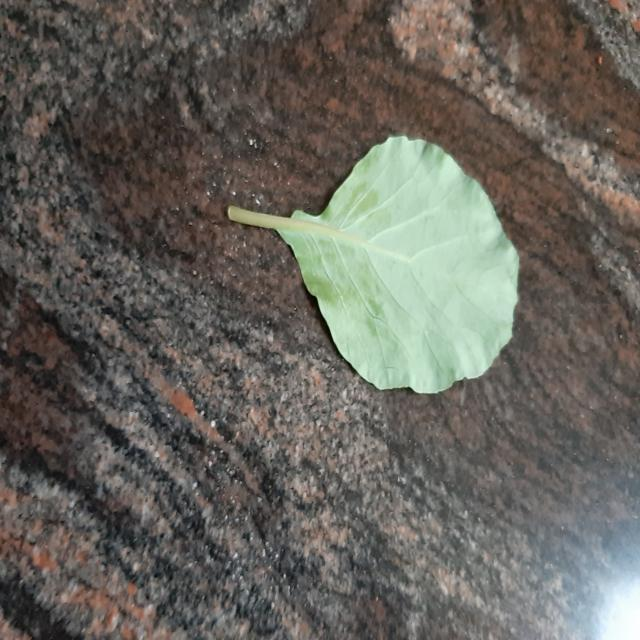Kohlrabi: (229, 136, 519, 393)
